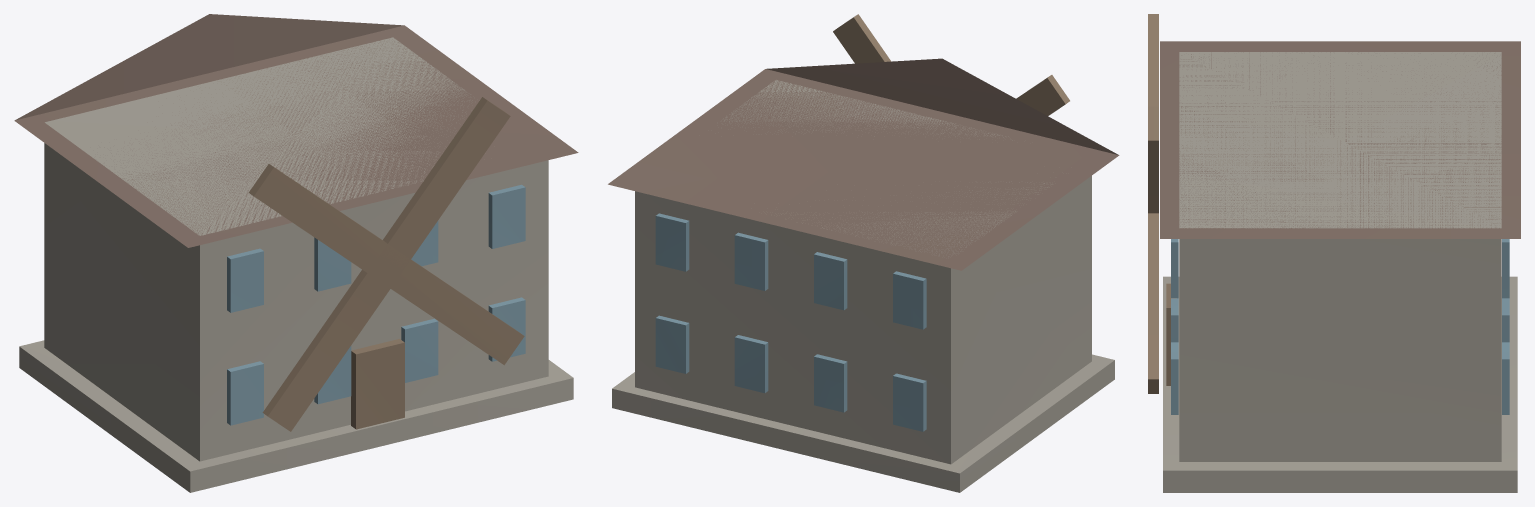
File: windmill-06.glb
3 views of the same model, side by side, from view 1: azimuth 30°, elevation 25°; view 2: azimuth 150°, elevation 25°; view 3: azimuth 270°, elevation 25° (orthographic). The views are drawn at different scales.
Parts seen in each view (by area): view 1: world; view 2: world; view 3: world.
Boxes of the visible parts, x1,y1,x2,y2 form: world: (14,14,578,492); world: (608,14,1119,492); world: (1148,14,1520,492).
Size of the model in its own units: 1.52 by 1.22 by 1.21.
